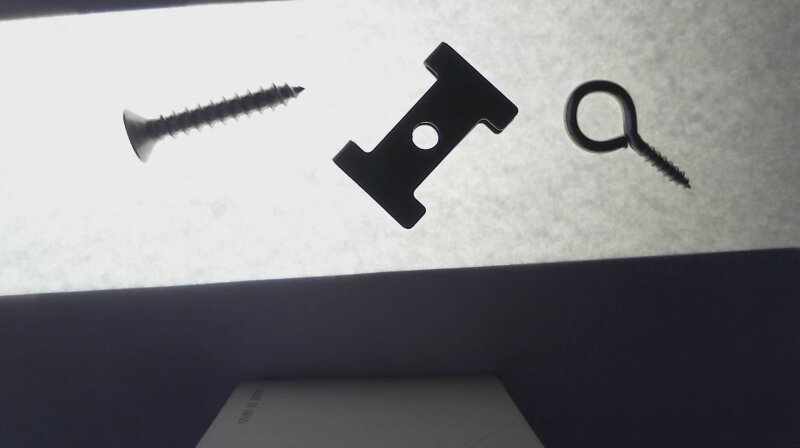O001: (561, 77, 692, 189)
O002: (335, 41, 520, 234)
S001: (120, 79, 306, 166)
